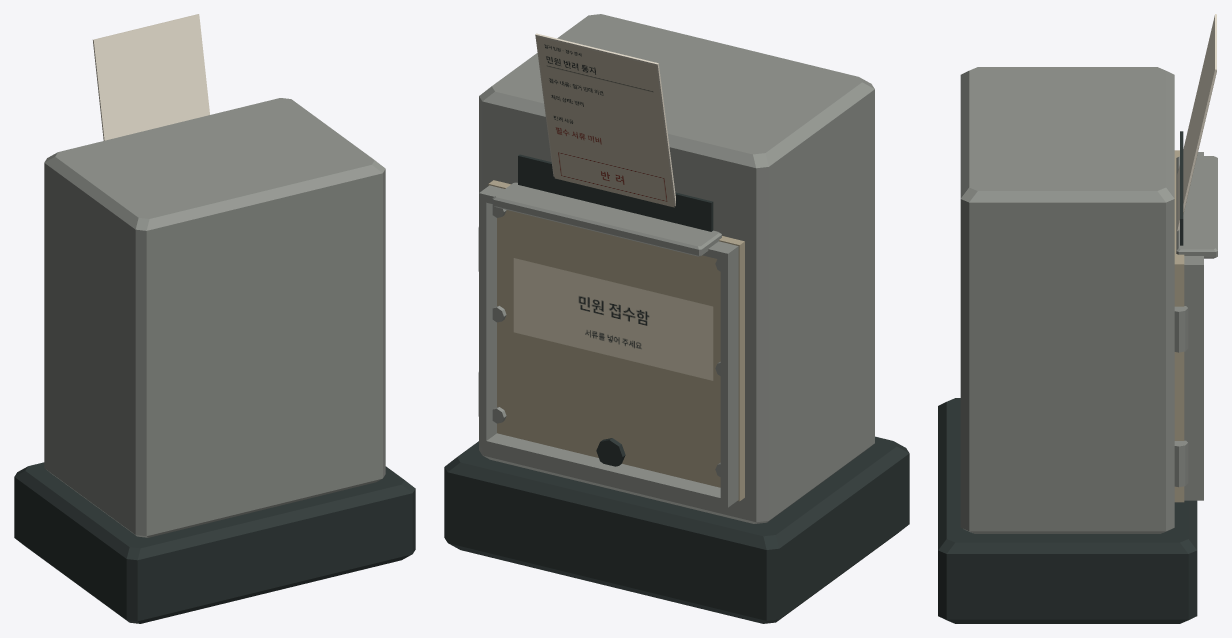
Rendered from D05_Returned_Complaint_Box.fbx.
The picture shows the model from 3 angles, left to right: view 1: azimuth 30°, elevation 25°; view 2: azimuth 150°, elevation 25°; view 3: azimuth 270°, elevation 25°; orthographic projection. The views are drawn at different scales.
Parts seen in each view (by area): view 1: Complaint_Box, Front_Returned_Complaint; view 2: Complaint_Box, Front_Returned_Complaint, Front_Box_Label; view 3: Complaint_Box, Front_Returned_Complaint, Support_and_Hinges.
Boxes of the visible parts, bbox=[...] form: Complaint_Box: bbox=[14, 98, 415, 623]; Front_Returned_Complaint: bbox=[93, 14, 209, 140]; Complaint_Box: bbox=[444, 14, 909, 623]; Front_Returned_Complaint: bbox=[535, 33, 675, 207]; Front_Box_Label: bbox=[513, 258, 713, 380]; Complaint_Box: bbox=[938, 67, 1217, 623]; Front_Returned_Complaint: bbox=[1177, 14, 1216, 230]; Support_and_Hinges: bbox=[1174, 306, 1188, 487].
Size of the model in its own units: 1.04 by 1.63 by 0.81.
5 materials, 1 textured.
